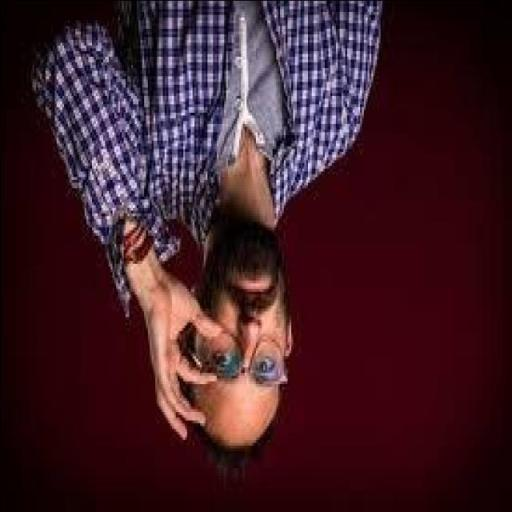glasses: (180, 320, 302, 399)
